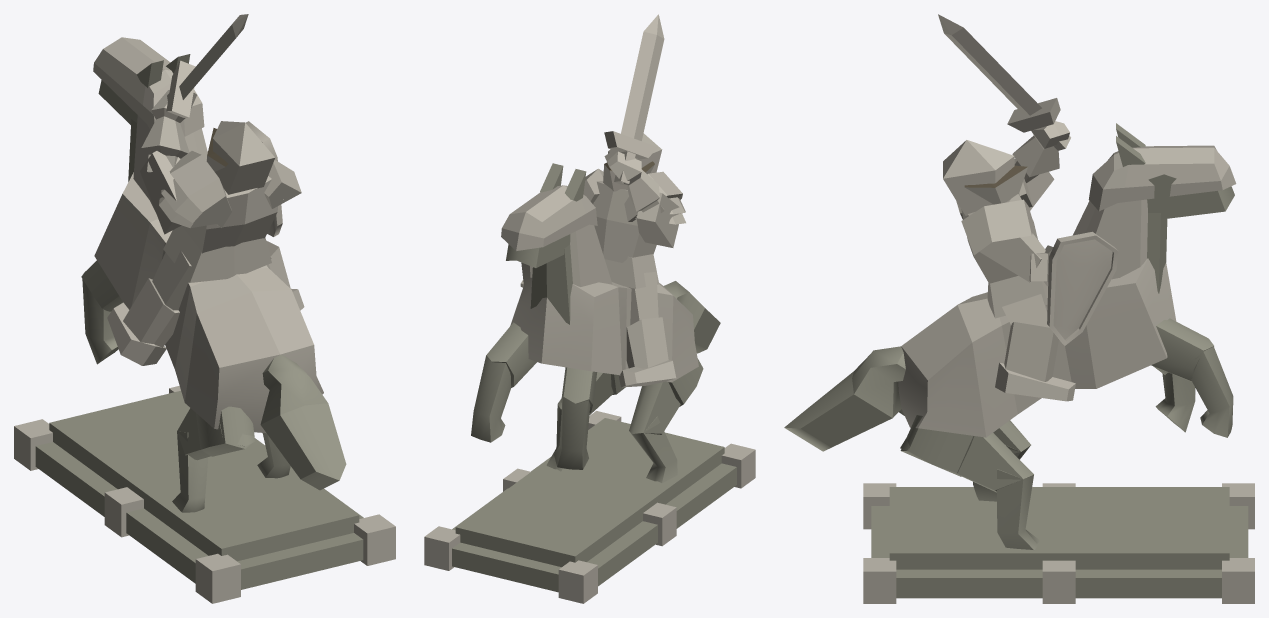
The model's file is statue_horseknight.fbx.
The picture shows the model from 3 angles, left to right: view 1: azimuth 30°, elevation 25°; view 2: azimuth 150°, elevation 25°; view 3: azimuth 270°, elevation 25°; orthographic projection. The views are drawn at different scales.
Parts seen in each view (by area): view 1: polySurface1429; view 2: polySurface1429; view 3: polySurface1429.
Boxes of the visible parts, box(x1,y1,x2,y2) form: polySurface1429: box(14, 14, 395, 603); polySurface1429: box(424, 14, 755, 603); polySurface1429: box(784, 14, 1254, 603).
Bounding box in the file's own units: 81.34 × 230 × 183.
1 material, 1 textured.
